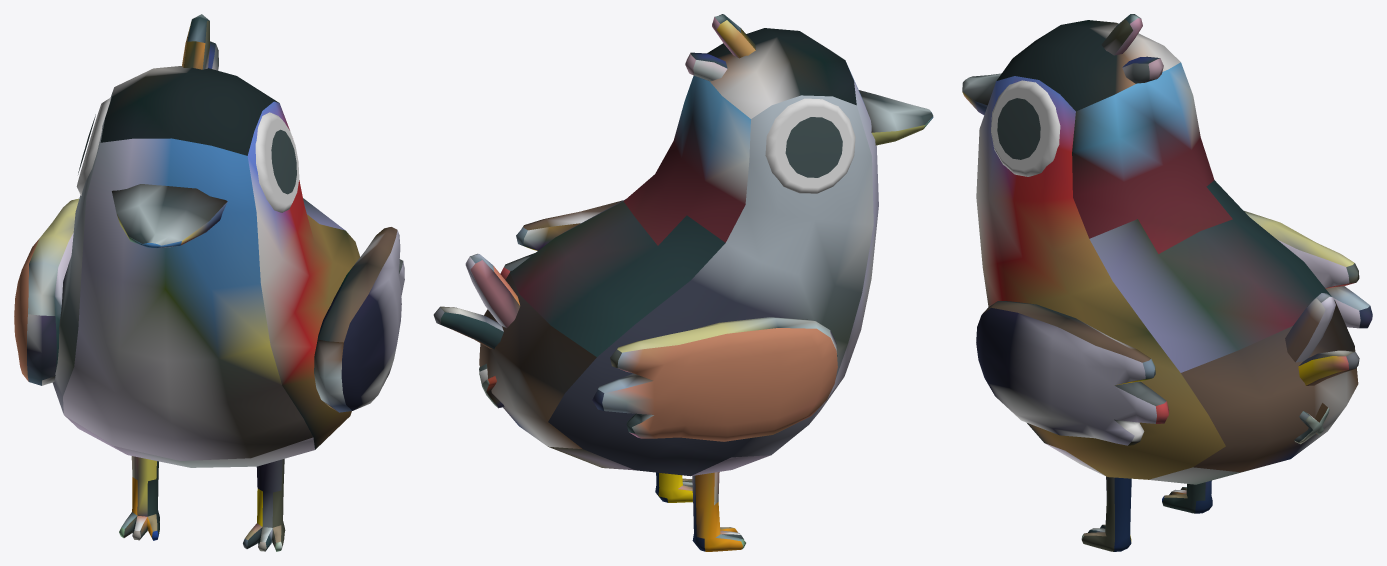
Rendered from Duck.glb.
3 views of the same model, side by side, from view 1: azimuth 30°, elevation 25°; view 2: azimuth 150°, elevation 25°; view 3: azimuth 270°, elevation 25° (orthographic). The views are drawn at different scales.
Visible parts, largest first — view 1: 179; view 2: 179; view 3: 179.
Boxes of the visible parts, x1=… form: 179: x1=14, y1=14, x2=404, y2=551; 179: x1=433, y1=14, x2=933, y2=551; 179: x1=962, y1=14, x2=1372, y2=551.
Bounding box in the file's own units: 0.534 × 0.7409 × 0.5463.
